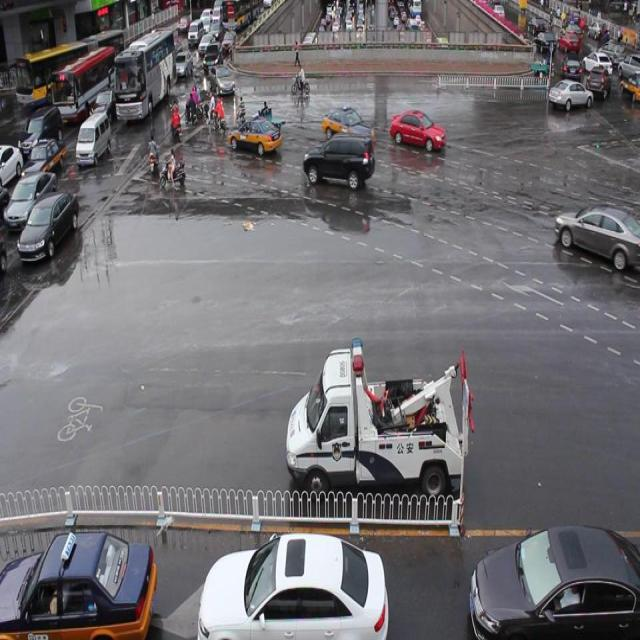bus: (285, 338, 464, 498)
car: (554, 202, 640, 272), (388, 108, 444, 154), (226, 115, 281, 155), (322, 105, 374, 147), (210, 63, 235, 95)
truck: (302, 130, 374, 190)
